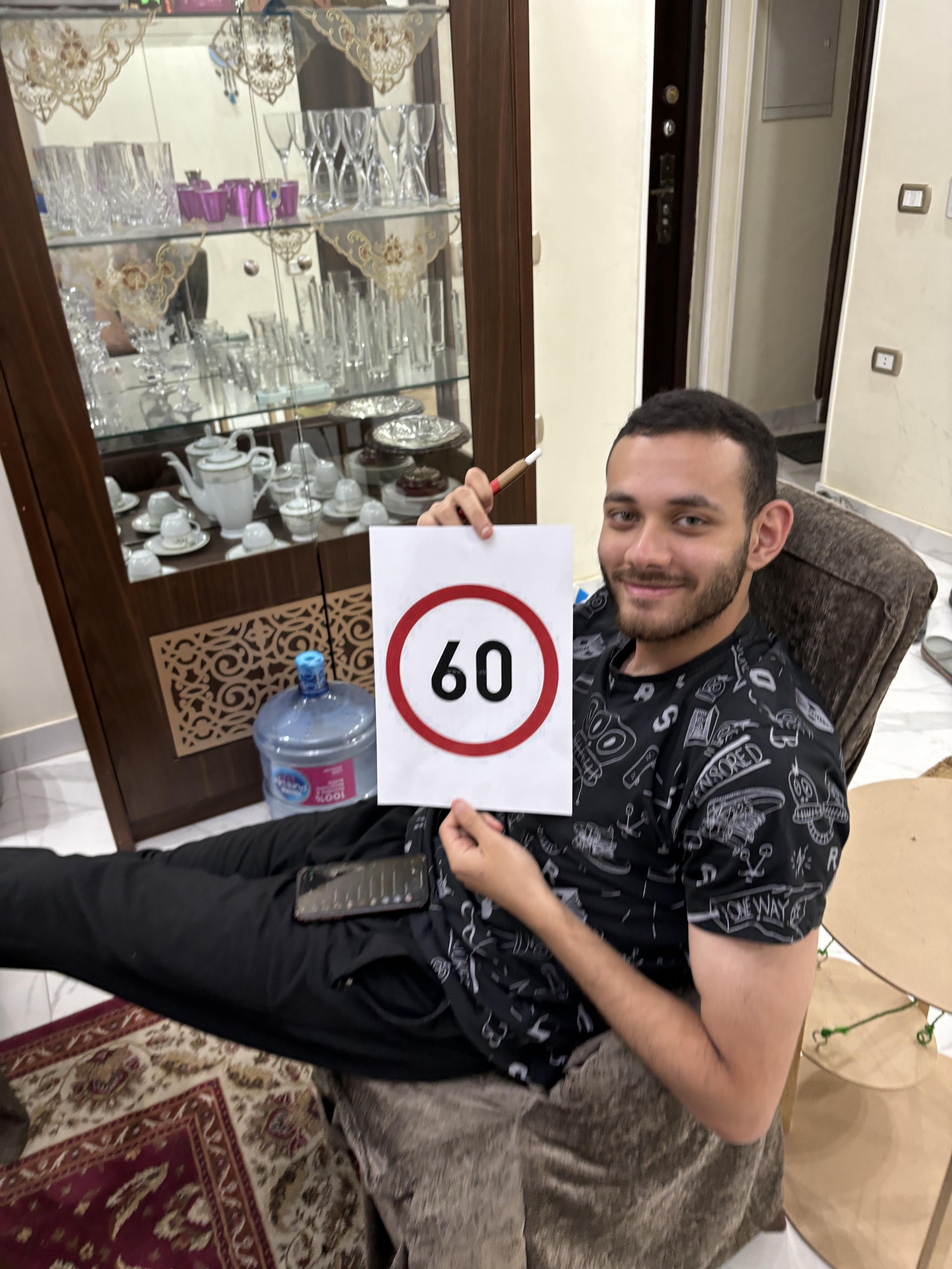60-Speed: (383, 571, 568, 764)
